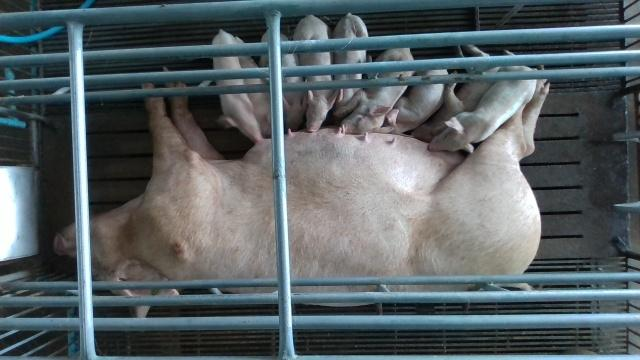piglet: (412, 44, 500, 140), (428, 80, 537, 153), (338, 47, 414, 135), (212, 33, 261, 140), (295, 15, 340, 131), (261, 33, 309, 129), (385, 68, 448, 132), (334, 13, 369, 106)
sow-sleep-lactate: (55, 64, 551, 317)
